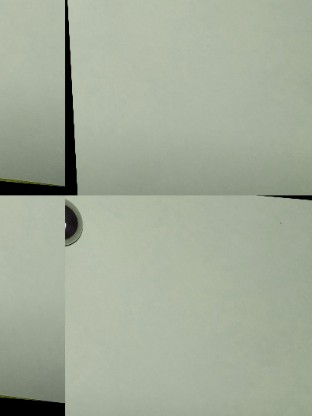ironball: (64, 198, 89, 243)
